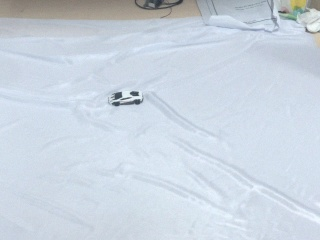toy_car: (108, 91, 143, 107)
